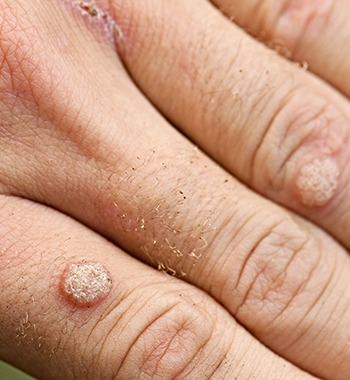Warts: (52, 256, 121, 310), (287, 148, 342, 212)
